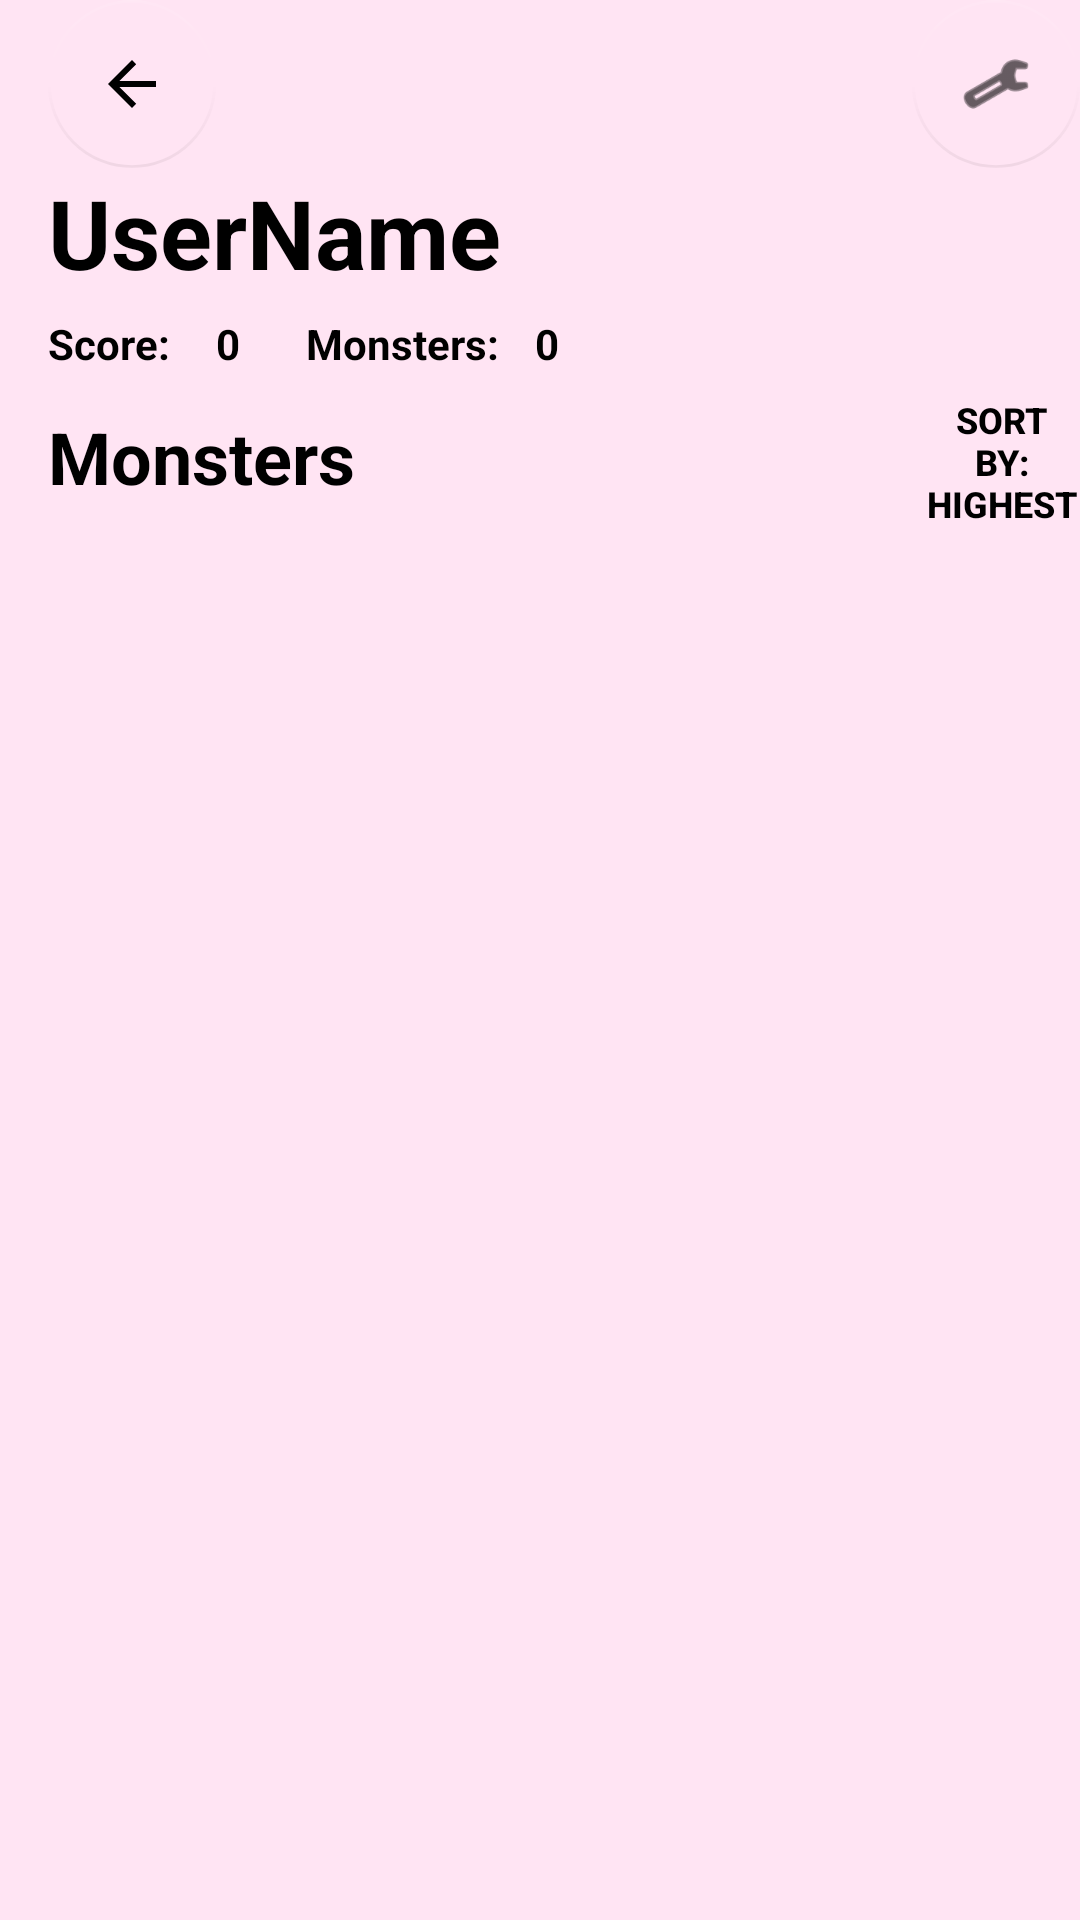

Named icons in this screenshot (1080w x 1920h) and their bounding boxes, Rect(x1, y1, x2, y2):
preferences: Rect(963, 59, 1028, 109)
